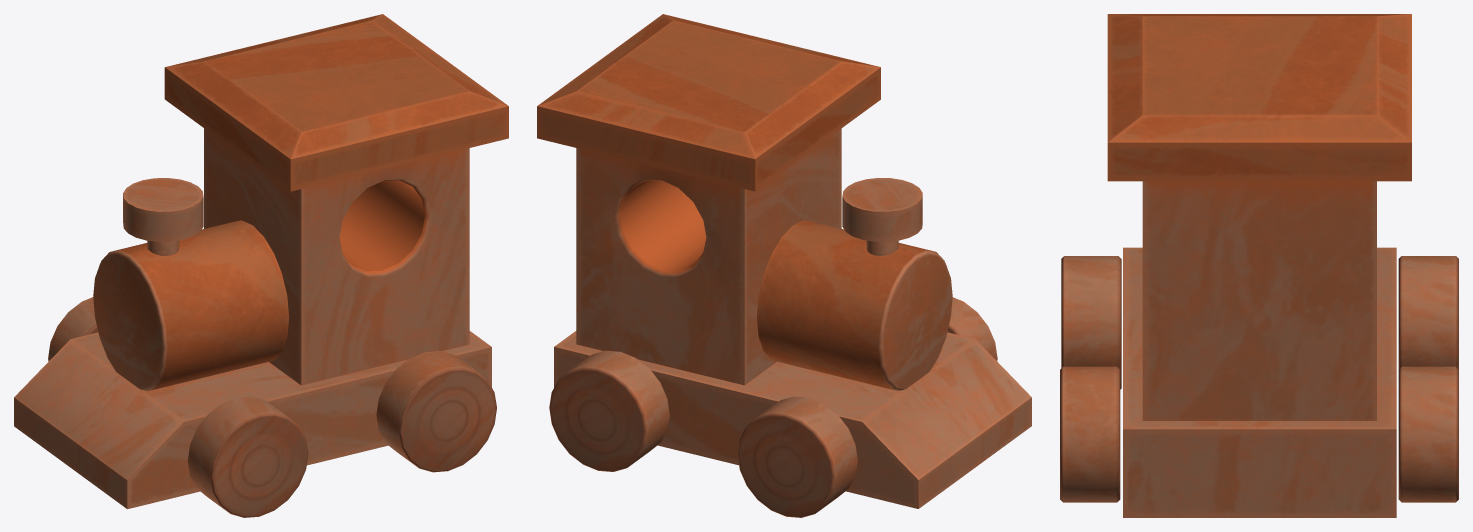
File: Train_Engine_Animation2.fbx
3 renders of one model, left to right at view 1: azimuth 30°, elevation 25°; view 2: azimuth 150°, elevation 25°; view 3: azimuth 270°, elevation 25°, orthographic. The views are drawn at different scales.
Parts seen in each view (by area): view 1: Engine_Cabin_low, Engine_Baseplate_low, Engine_Tanker_low, Wheel_low1, Wheel_low12, Engine_Exhaust_low, Wheel_low11; view 2: Engine_Cabin_low, Engine_Baseplate_low, Engine_Tanker_low, Wheel_low10, Wheel_low11, Engine_Exhaust_low, Wheel_low12; view 3: Engine_Cabin_low, Engine_Baseplate_low, Wheel_low1, Wheel_low10, Wheel_low12, Wheel_low11.
Part boxes in pixels (x1,y1,x2,y2): Engine_Cabin_low: (164,14,508,385); Engine_Baseplate_low: (14,331,491,509); Engine_Tanker_low: (93,220,288,391); Wheel_low1: (376,351,496,472); Wheel_low12: (188,396,308,517); Engine_Exhaust_low: (123,178,203,241); Wheel_low11: (48,297,98,361); Engine_Cabin_low: (537,14,880,385); Engine_Baseplate_low: (554,331,1031,508); Engine_Tanker_low: (757,220,952,390); Wheel_low10: (549,350,669,471); Wheel_low11: (737,396,857,517); Engine_Exhaust_low: (842,178,922,241); Wheel_low12: (947,297,997,360); Engine_Cabin_low: (1107,14,1411,420); Engine_Baseplate_low: (1123,247,1396,517); Wheel_low1: (1060,366,1120,502); Wheel_low10: (1398,366,1458,502); Wheel_low12: (1061,256,1121,389); Wheel_low11: (1398,256,1458,369).
Bounding box in the file's own units: 1418 × 1236 × 1081.
